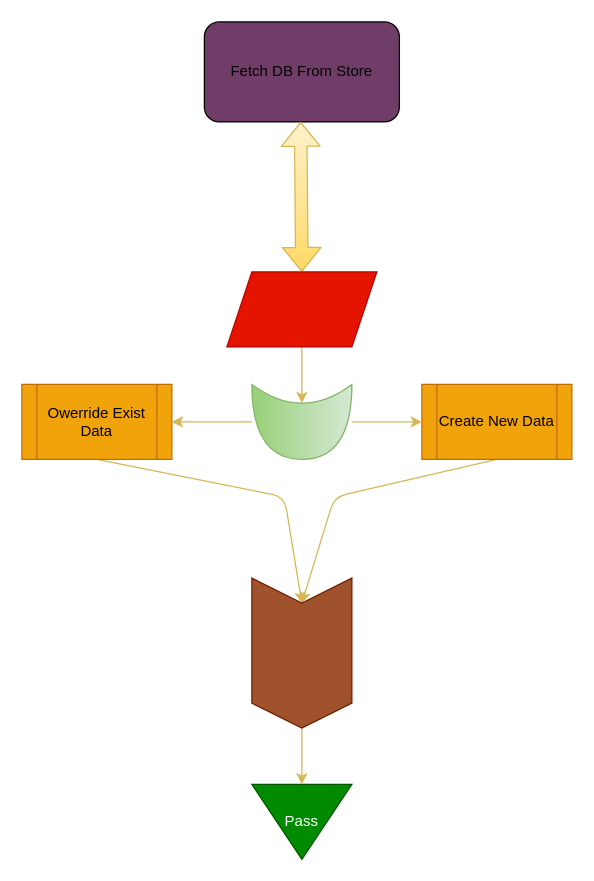
Some shapes in this 594 by 881 pixel diagram are drawn without their labels. Here are the shapes that lost their labels. From the top down, the centre of each, then its label:
[301,309]: Get Action Type
[301,652]: Save and Send Request to Server
